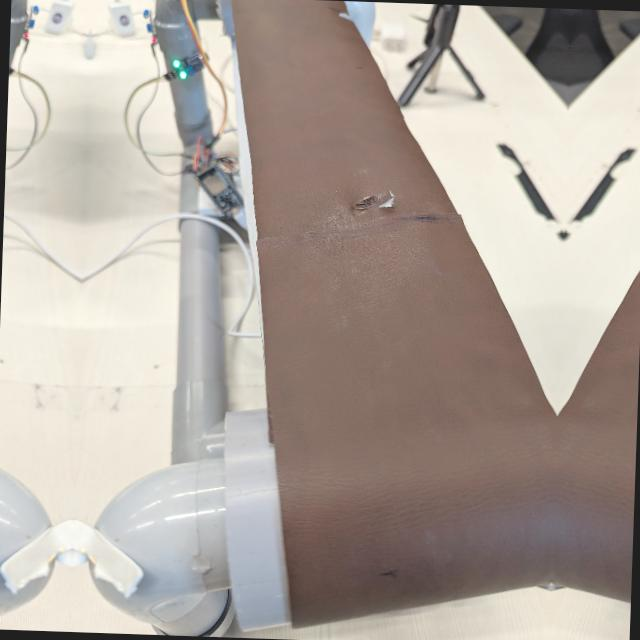joint_damage: (338, 182, 429, 233)
